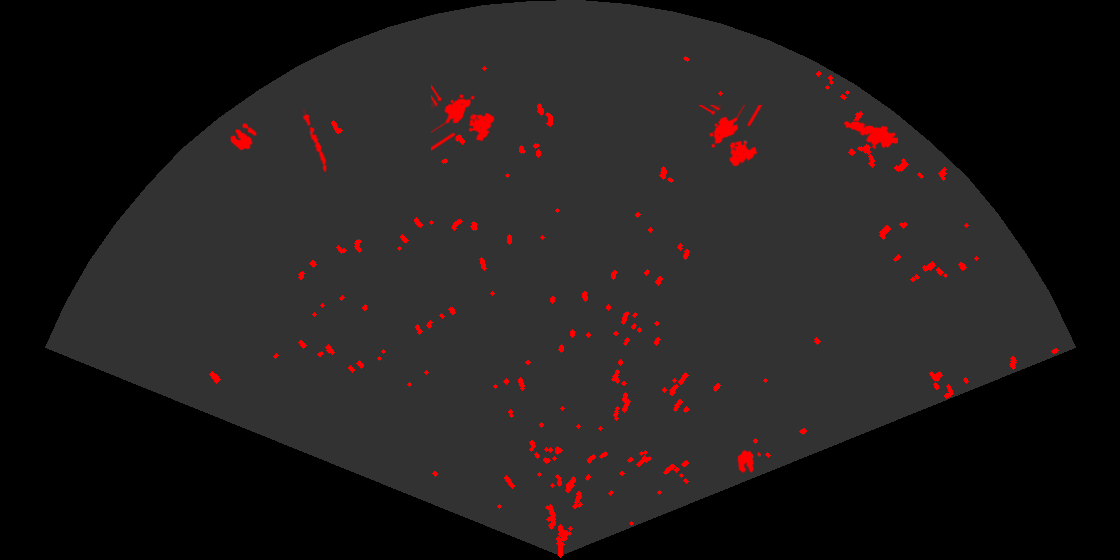ball: (229, 122, 258, 152), (736, 449, 763, 475)
cage: (431, 83, 496, 153), (697, 105, 764, 168)
chain: (300, 109, 328, 174)
frogman: (843, 120, 898, 151)
